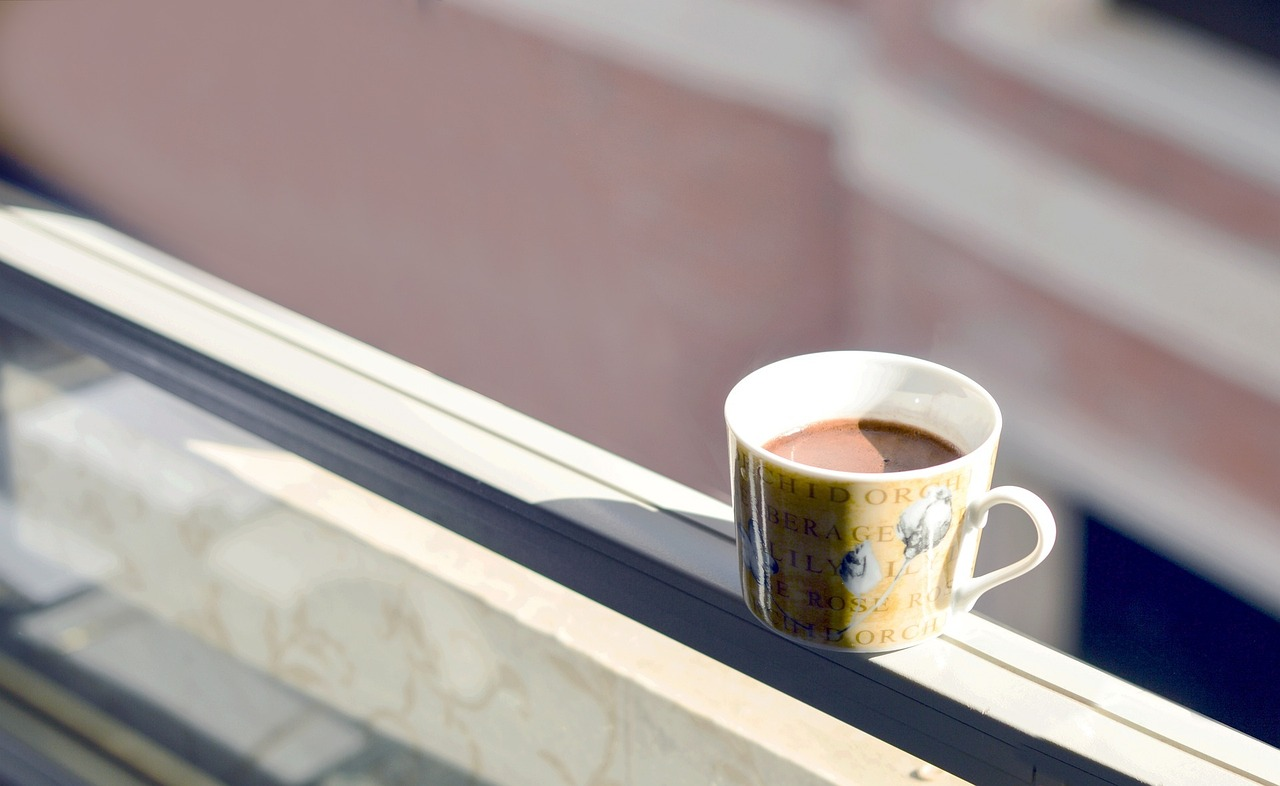mug: (677, 315, 1101, 685)
